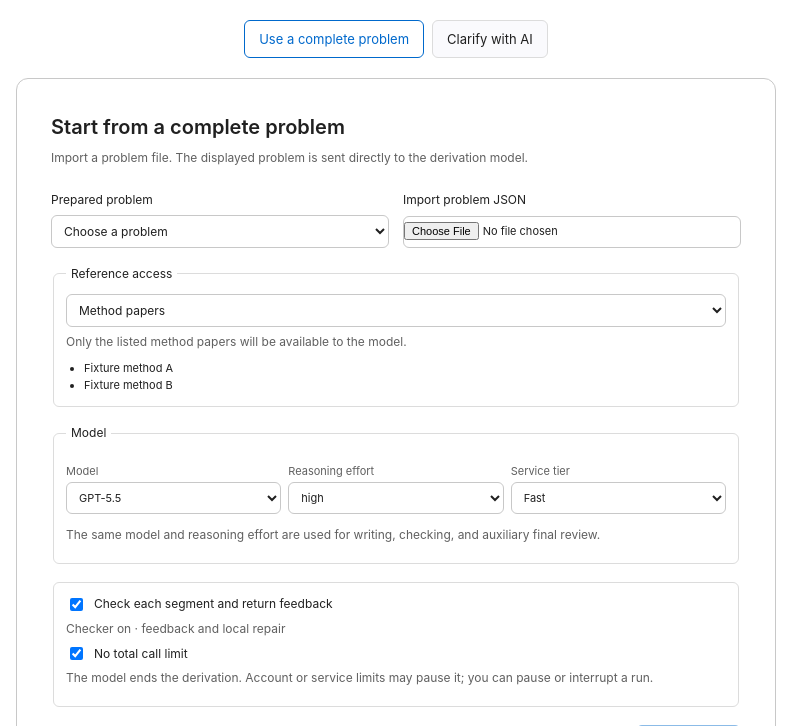
Test: direct problem entry › keeps optional Intake reachable without invoking it on direct entry
The image size is (793, 726).
Expected: the heading "Start from a complete problem" is shown, [51,115,345,139]
Click the button "Clarify with AI" at (490, 39), box [432,20,548,58]
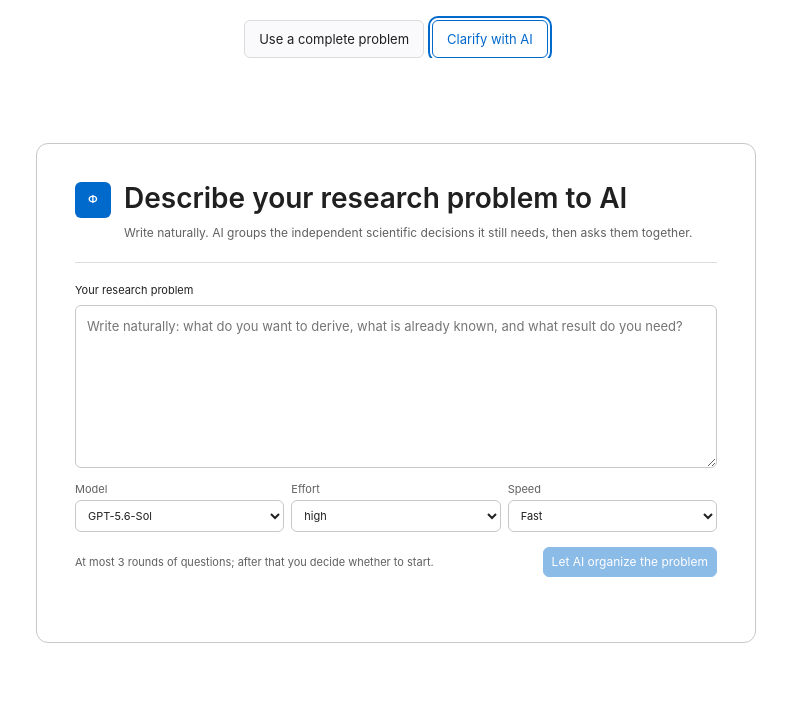
Result: the text box labelled "Your research problem" is shown at [75,305,717,468]
